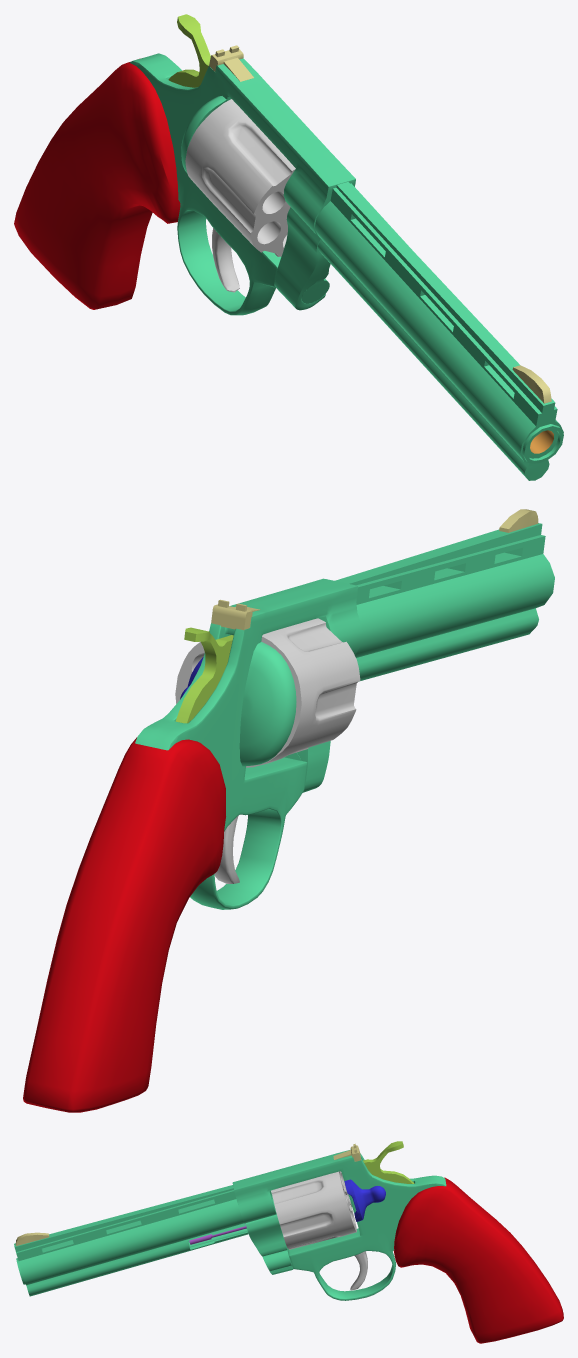
File: GunBeforePivotFix.fbx
3 renders of one model, top to bottom at view 1: azimuth 30°, elevation 25°; view 2: azimuth 150°, elevation 25°; view 3: azimuth 270°, elevation 25°, orthographic. The views are drawn at different scales.
Visible parts, largest first — view 1: RevolverPart, CylinderPart, HammerPart, TriggerPart, ExtractorPart; view 2: RevolverPart, CylinderPart, HammerPart, TriggerPart; view 3: RevolverPart, CylinderPart, ExtractorPart, HammerPart, TriggerPart.
Part boxes in pixels (bbox=[...]): RevolverPart: bbox=[14, 45, 563, 480]; CylinderPart: bbox=[185, 99, 295, 256]; HammerPart: bbox=[168, 14, 210, 87]; TriggerPart: bbox=[212, 228, 239, 292]; ExtractorPart: bbox=[301, 260, 330, 303]; RevolverPart: bbox=[23, 509, 554, 1112]; CylinderPart: bbox=[175, 618, 360, 767]; HammerPart: bbox=[175, 627, 233, 723]; TriggerPart: bbox=[214, 815, 239, 883]; RevolverPart: bbox=[14, 1143, 563, 1343]; CylinderPart: bbox=[271, 1171, 356, 1249]; ExtractorPart: bbox=[189, 1214, 292, 1270]; HammerPart: bbox=[363, 1141, 414, 1183]; TriggerPart: bbox=[350, 1251, 367, 1290].
Bounding box in the file's own units: 4.34 × 13.12 × 33.
